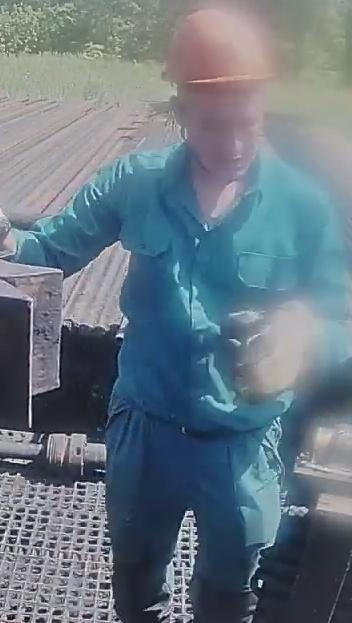gloves: (223, 299, 334, 402), (0, 208, 33, 265)
helmet: (161, 9, 276, 102)
vest: (101, 148, 320, 437)
